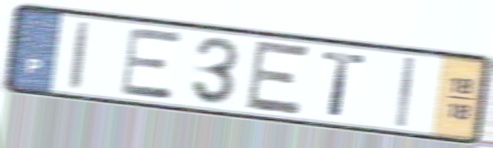3: (186, 36, 242, 107)
E: (242, 38, 314, 118), (118, 27, 184, 102)
I: (66, 18, 94, 94), (394, 54, 419, 130)
T: (319, 49, 369, 120)
